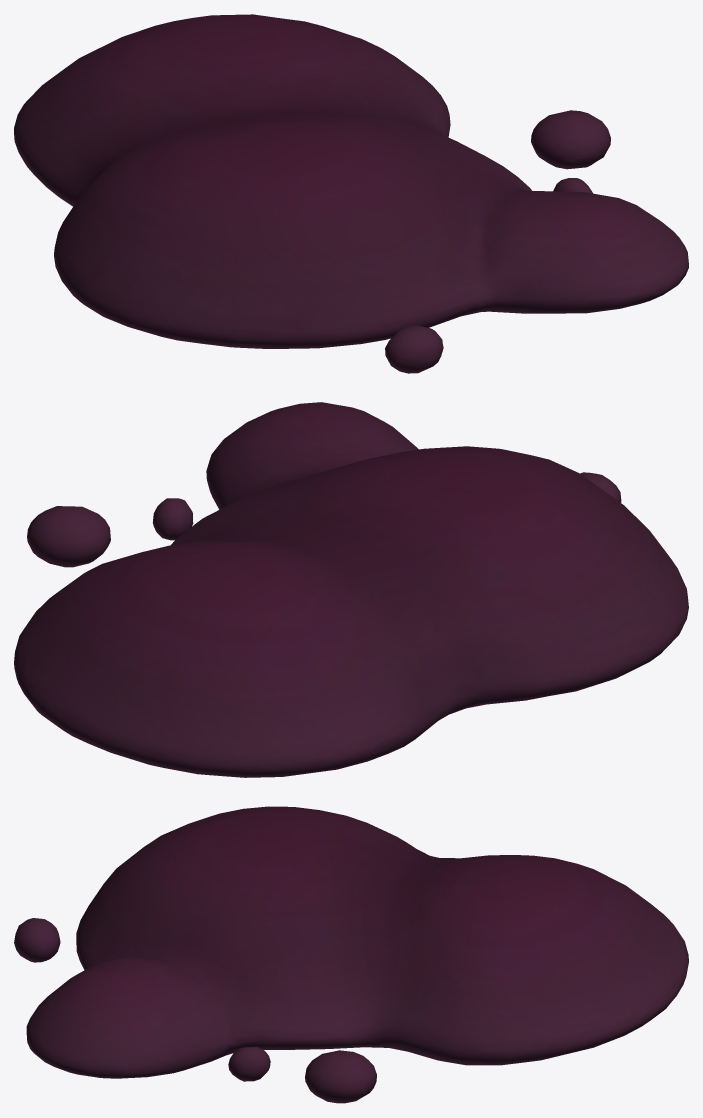
The model's file is bog_puddle_b.glb.
The picture shows the model from 3 angles, top to bottom: view 1: azimuth 30°, elevation 25°; view 2: azimuth 150°, elevation 25°; view 3: azimuth 270°, elevation 25°; orthographic projection. The views are drawn at different scales.
Parts seen in each view (by area): view 1: SM_XBOG_DRS_PoisonPuddle_01B; view 2: SM_XBOG_DRS_PoisonPuddle_01B; view 3: SM_XBOG_DRS_PoisonPuddle_01B.
Part boxes in pixels (x1,y1,x2,y2): SM_XBOG_DRS_PoisonPuddle_01B: (14, 14, 688, 373); SM_XBOG_DRS_PoisonPuddle_01B: (14, 402, 688, 777); SM_XBOG_DRS_PoisonPuddle_01B: (14, 806, 688, 1103).
Bounding box in the file's own units: 3.16 × 0.7221 × 3.64.
Materials: 1 (1 with a texture image).
